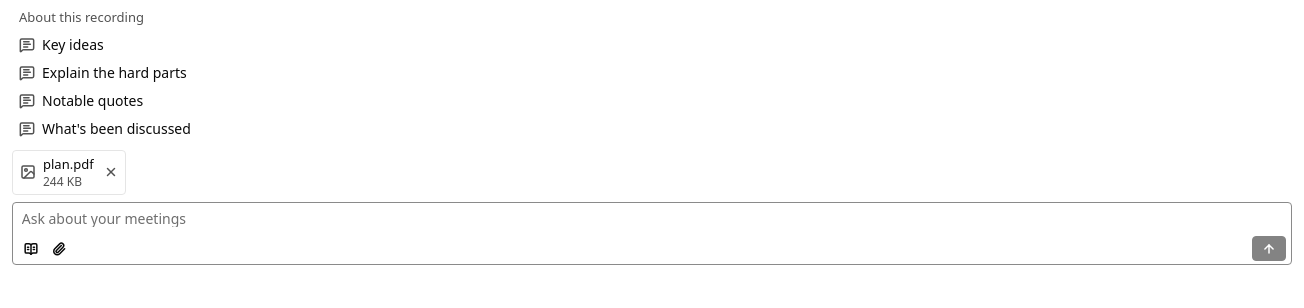
Scenario: attachment chips › an answer notice (images left out by the local model) is shown
This screenshot has width=1304, height=308.
Check: the list named "Attached files" is shown, box x1=12 y1=150 x2=126 y2=194
Type "q" into the text box with test id "TxtMeetingChat".
click(652, 220); type("q")  # box x1=18 y1=204 x2=1286 y2=236
Then press Enter
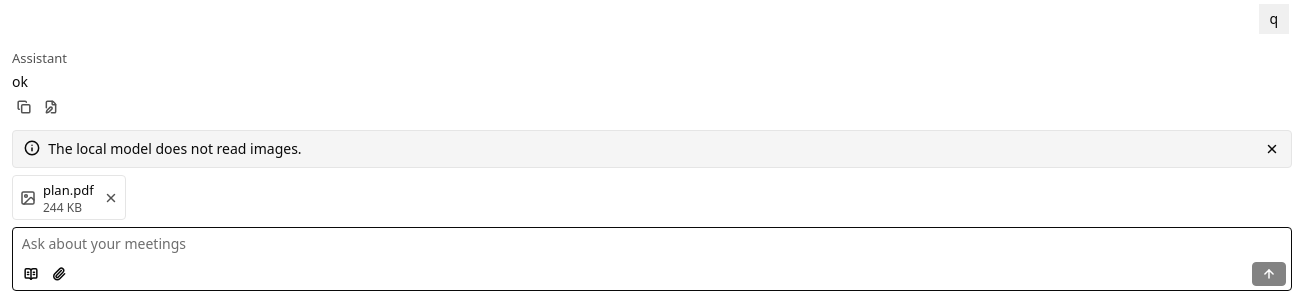
Check: the text "The local model does not read images." is shown, box x1=48 y1=139 x2=302 y2=158
